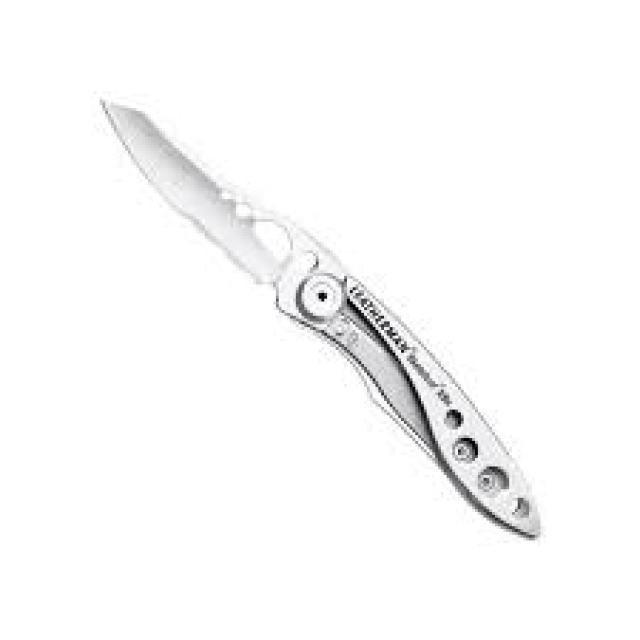knives: (91, 91, 546, 546)
